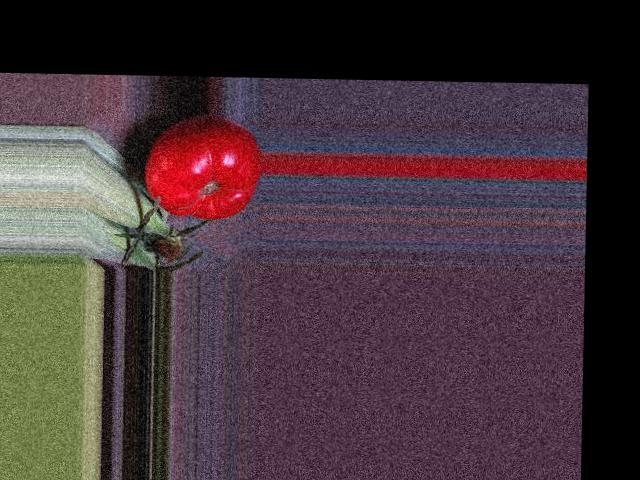tomato: (143, 113, 261, 220)
